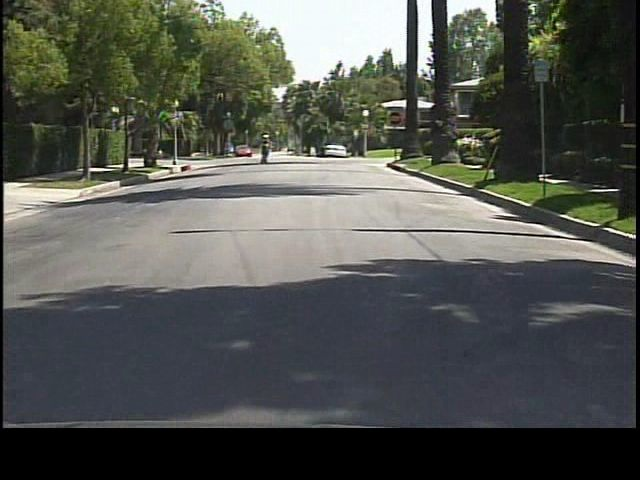person: (258, 134, 273, 166)
